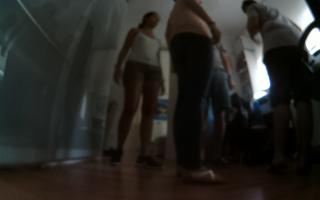person: (164, 1, 236, 190), (240, 1, 320, 164), (101, 4, 168, 173), (203, 43, 246, 160)
